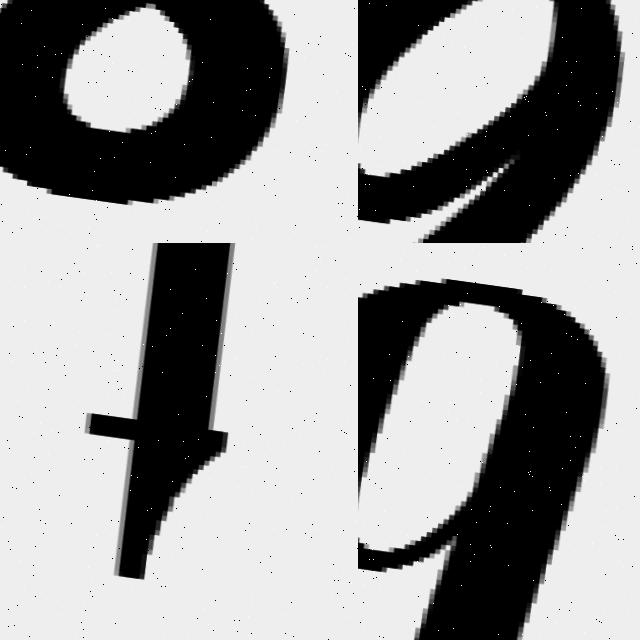6: (358, 0, 640, 243)
8: (0, 0, 358, 243)
B: (358, 277, 608, 640)
T: (44, 243, 285, 599)
